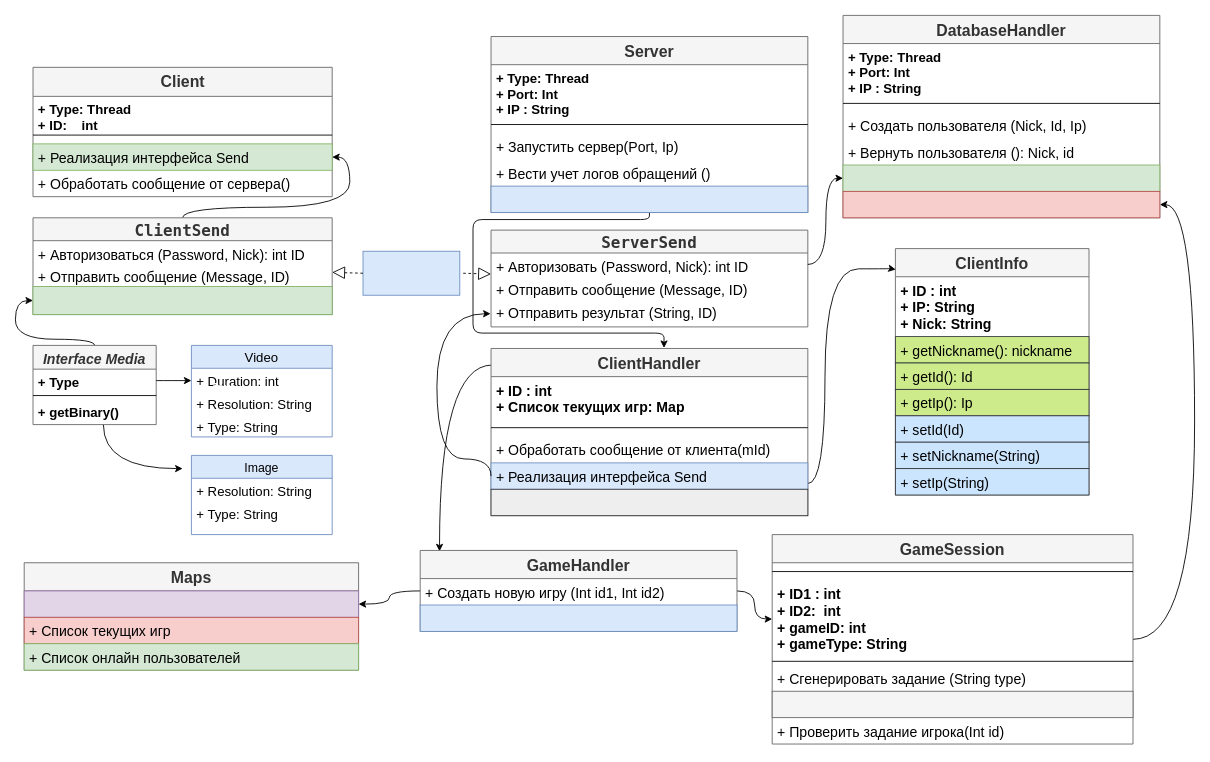
Image size: 1210x762. Some labels were removed from this diagram. Here are the shapes that lost their labels. From the top down, the centre of each, then its label:
point 1001,177: + Проверить наличие пользователя ()
point 649,199: + Запустить поток обработки клиентов ()
point 1001,204: + Создать лог прошедшей игры ()
point 411,272: «interface» Send
point 182,300: + Отправить Медиафайл (Media, ID)
point 649,502: + Заполнить информацию о клиенте ()
point 191,603: + Cписок ждущих начало игры пользователей
point 578,617: + Закончить игру(String gameId)
point 952,704: + Отправить задание игрокам ()
